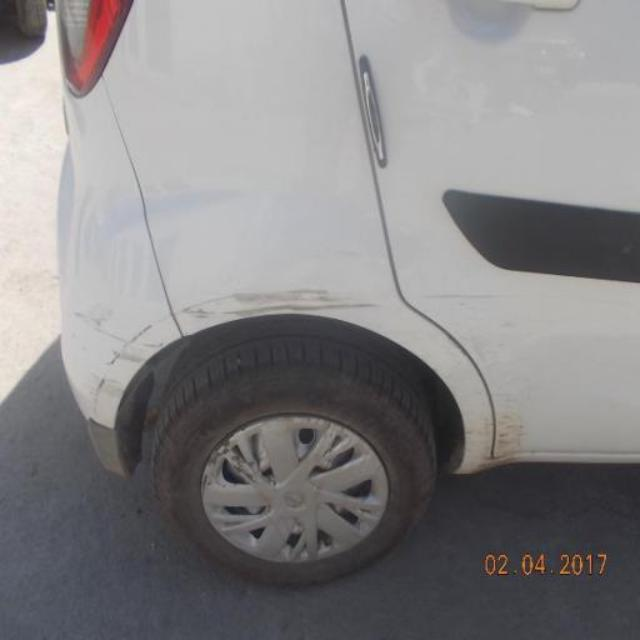rub: (213, 282, 386, 314), (462, 401, 531, 474)
scratch: (86, 307, 177, 418), (80, 307, 167, 368), (416, 284, 522, 309), (183, 300, 209, 320)
